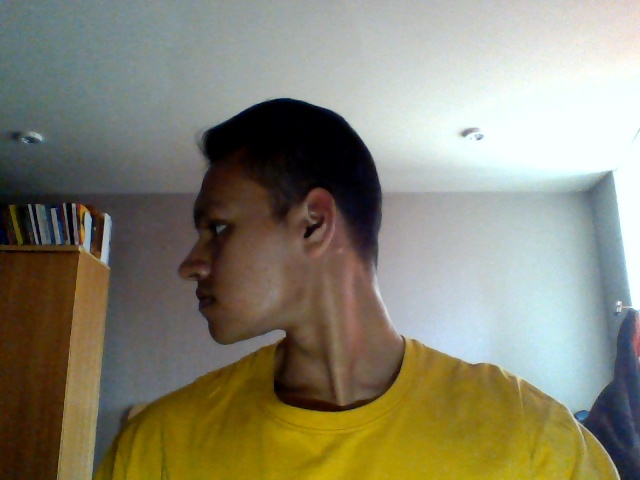no_mask: (173, 243, 306, 339)
